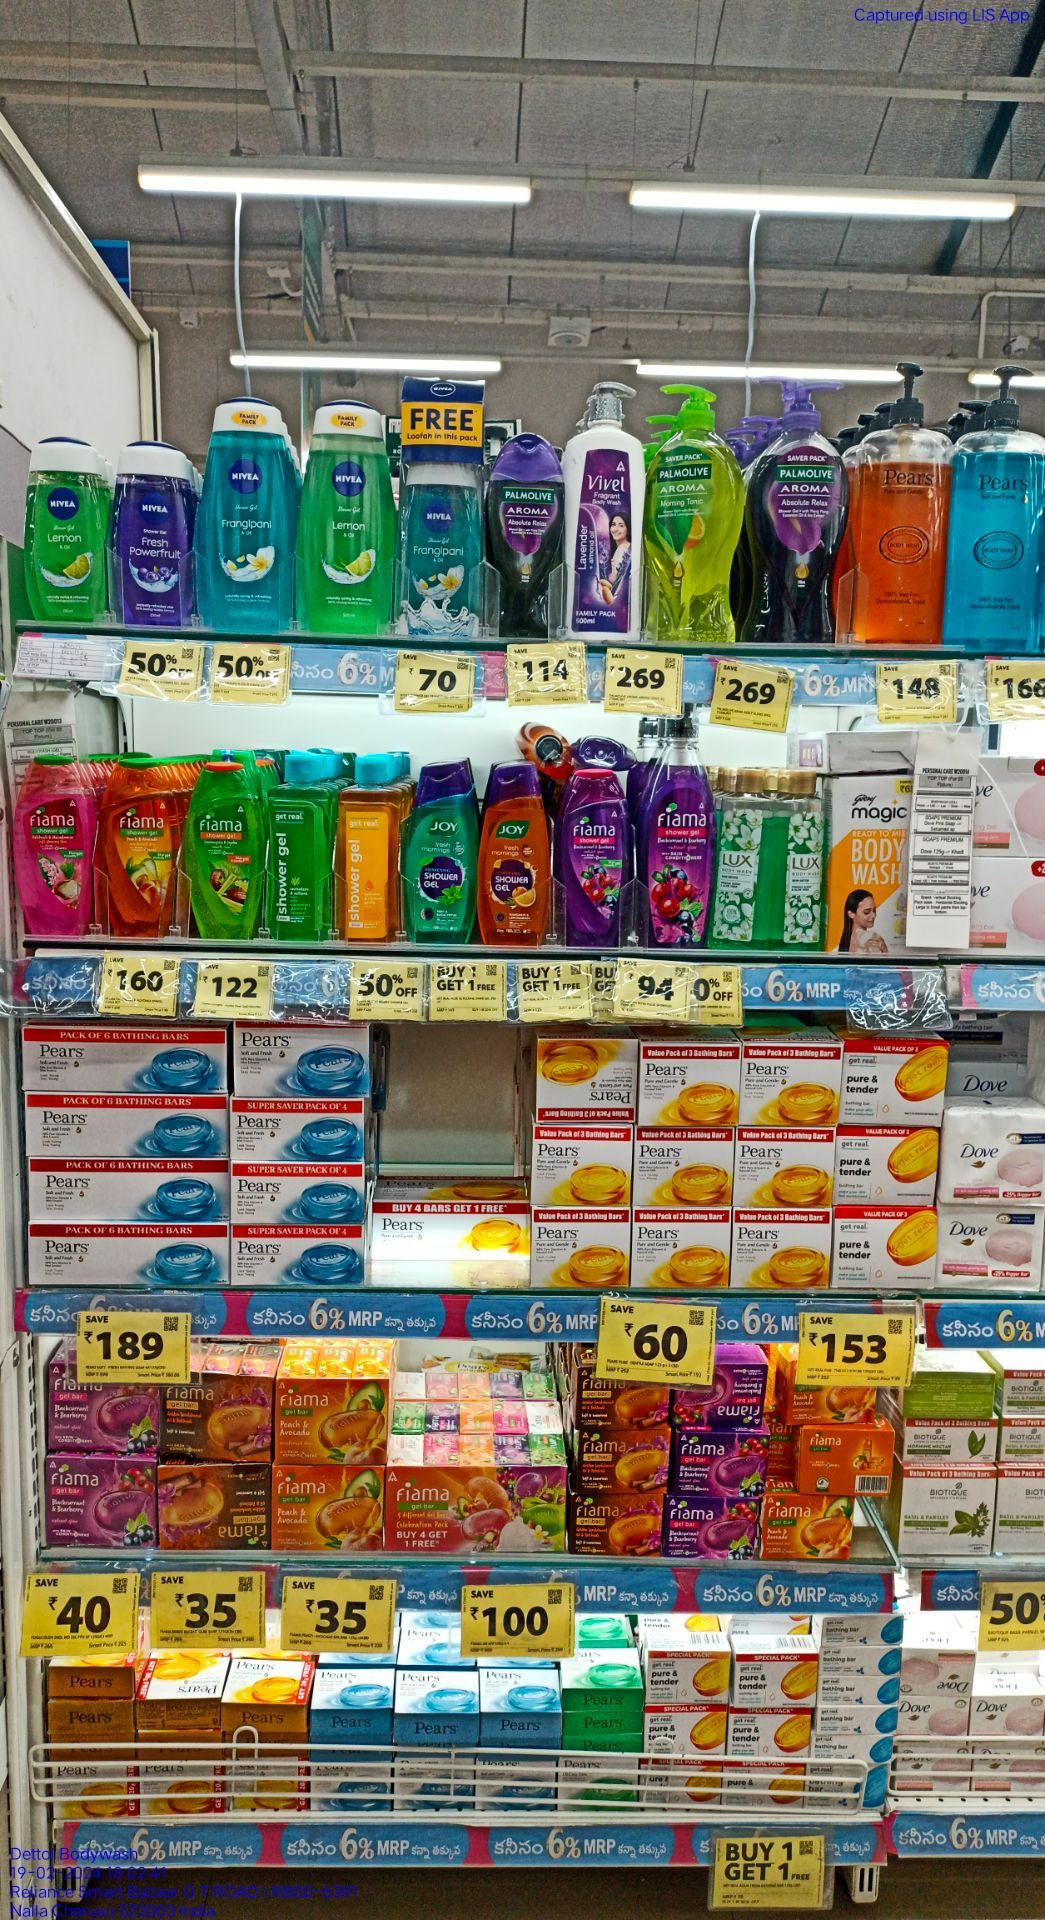Fiama_Shower_Gel_Lemongrass_and_Jojoba_250ML: (190, 759, 265, 945)
Fiama_Shower_Gel_Patchouli_and_Macadamia_250ML: (13, 753, 94, 934)
Fiama_Shower_Gel_Peach_and_Avocado_250ML: (99, 754, 176, 939)
Joy_Shower_Gel_Mandarin_and_Lemongrass_250ML: (480, 767, 550, 948)
Joy_Shower_Gel_Mint_and_Eucalyptus_250ML: (411, 770, 474, 946)
Lux_Body_Wash_Skin_Detox_Freesia_Scent_and_Alove_Vera_245ML: (718, 770, 768, 951), (777, 768, 822, 948)
Nivea_Shower_Gel_Frangipani_and_Oil_250ML: (202, 398, 291, 633)
Nivea_Shower_Gel_Fresh_Powerfruit_250ML: (115, 440, 194, 628)
Nivea_Shower_Gel_Lemon_and_Oil_250ML: (299, 402, 395, 633), (24, 436, 108, 620)
Palmolive_Aroma_Relax_250ML: (489, 440, 562, 640)
